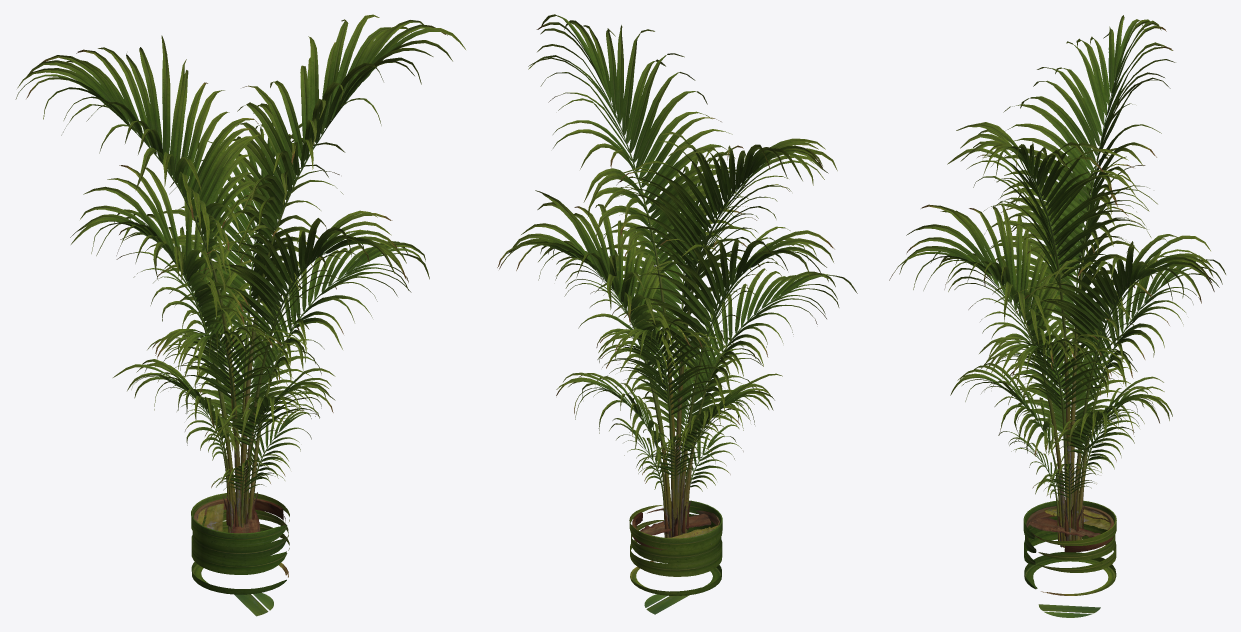
File: Plant2.fbx
The picture shows the model from 3 angles, left to right: view 1: azimuth 30°, elevation 25°; view 2: azimuth 150°, elevation 25°; view 3: azimuth 270°, elevation 25°; orthographic projection. The views are drawn at different scales.
Parts seen in each view (by area): view 1: DYPSIS_LUTESCENS_DYPSIS_LUTESCENS_Mat_0; view 2: DYPSIS_LUTESCENS_DYPSIS_LUTESCENS_Mat_0; view 3: DYPSIS_LUTESCENS_DYPSIS_LUTESCENS_Mat_0.
Part boxes in pixels (x1,y1,x2,y2): DYPSIS_LUTESCENS_DYPSIS_LUTESCENS_Mat_0: (15,14,465,616); DYPSIS_LUTESCENS_DYPSIS_LUTESCENS_Mat_0: (497,14,857,614); DYPSIS_LUTESCENS_DYPSIS_LUTESCENS_Mat_0: (889,15,1225,617).
Bounding box in the file's own units: 1776 × 2558 × 1488.
2 materials, 2 textured.
